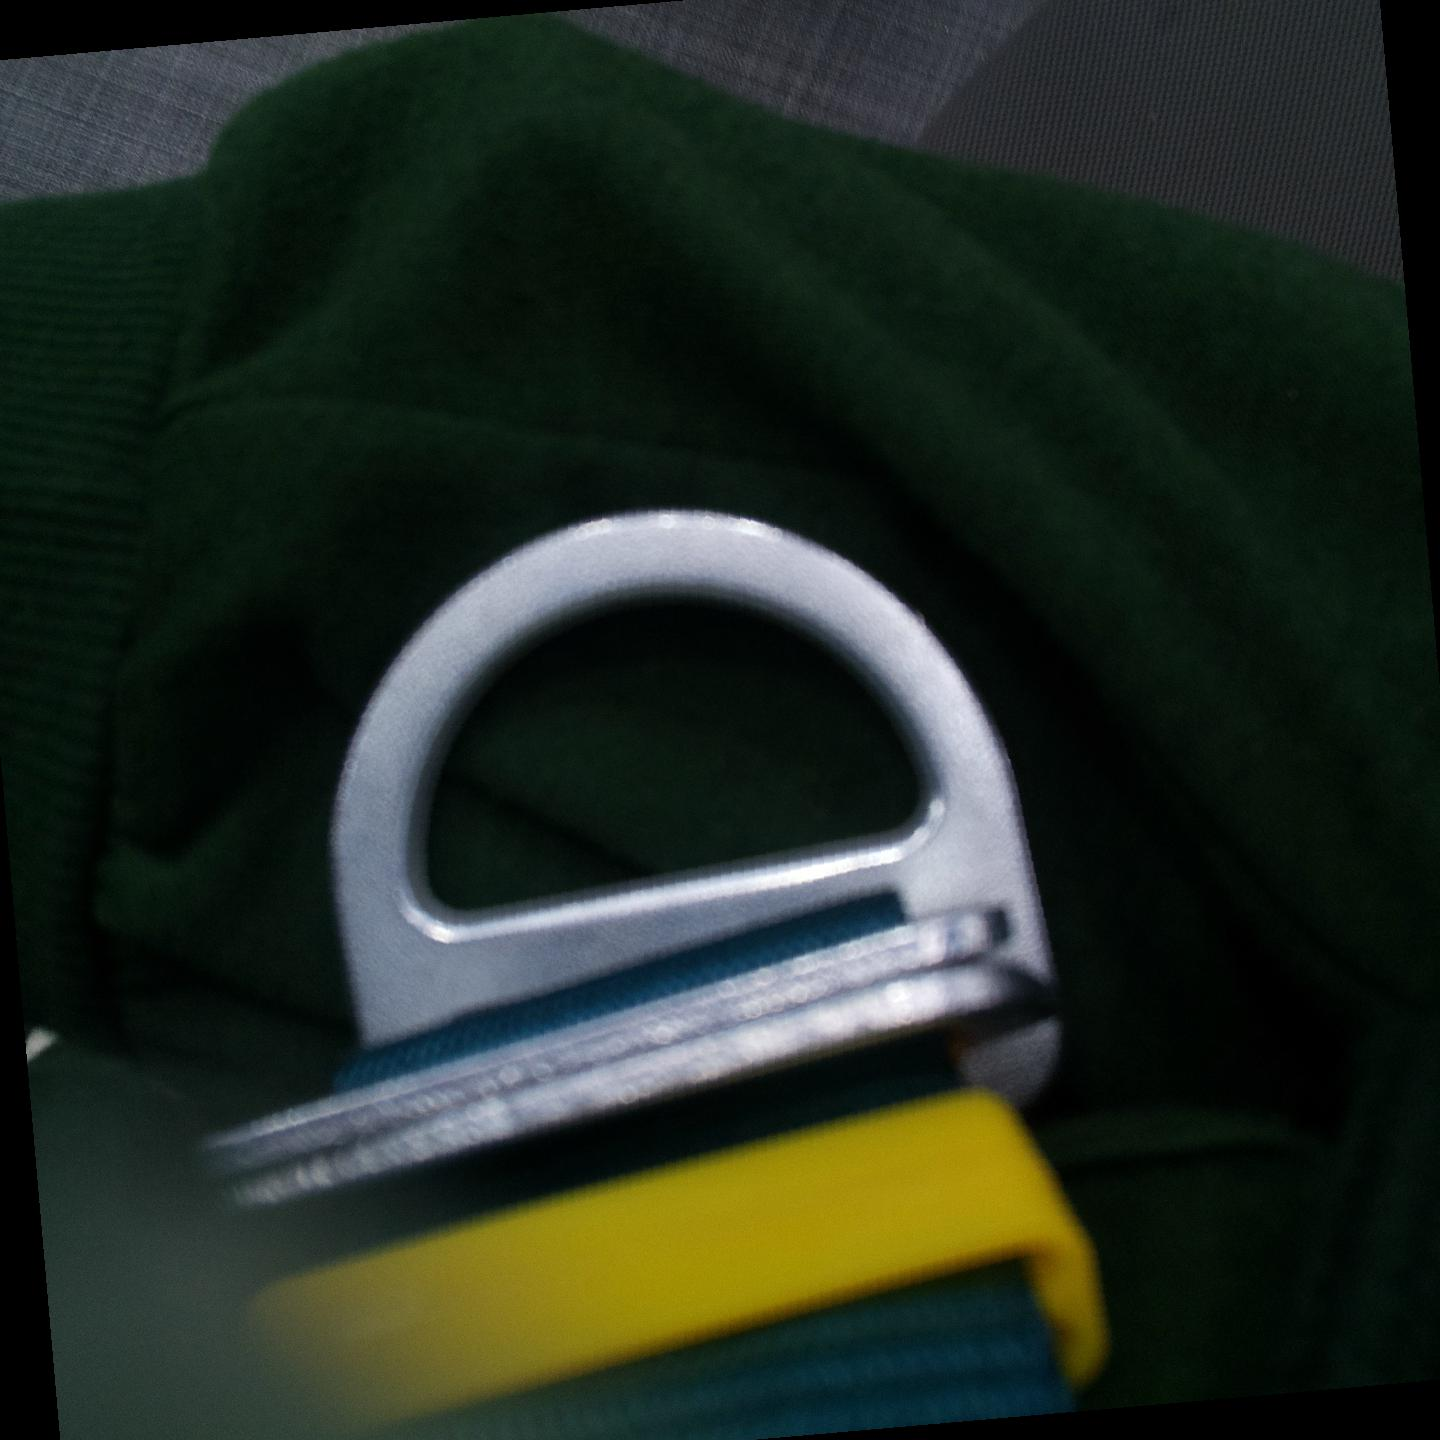UNSUCCESS: (309, 498, 1029, 911)
